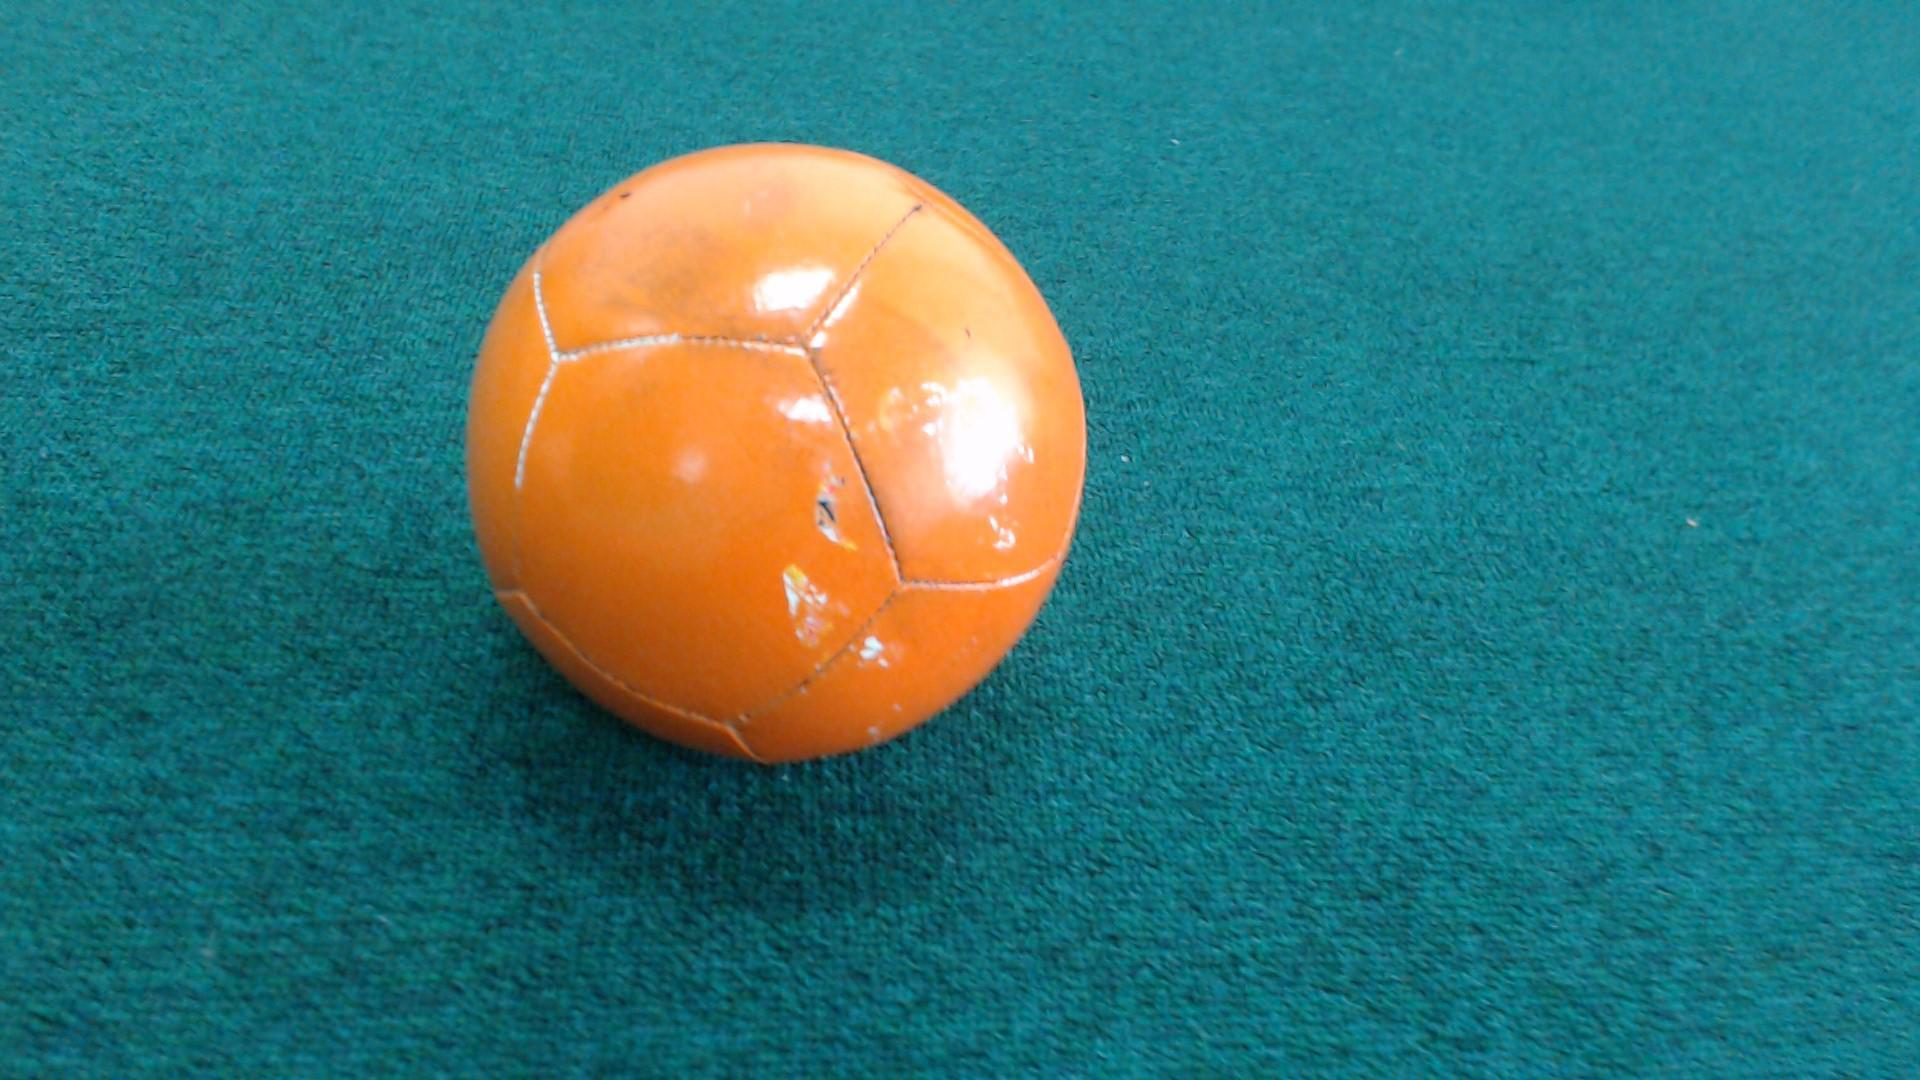bola: (444, 138, 1121, 786)
